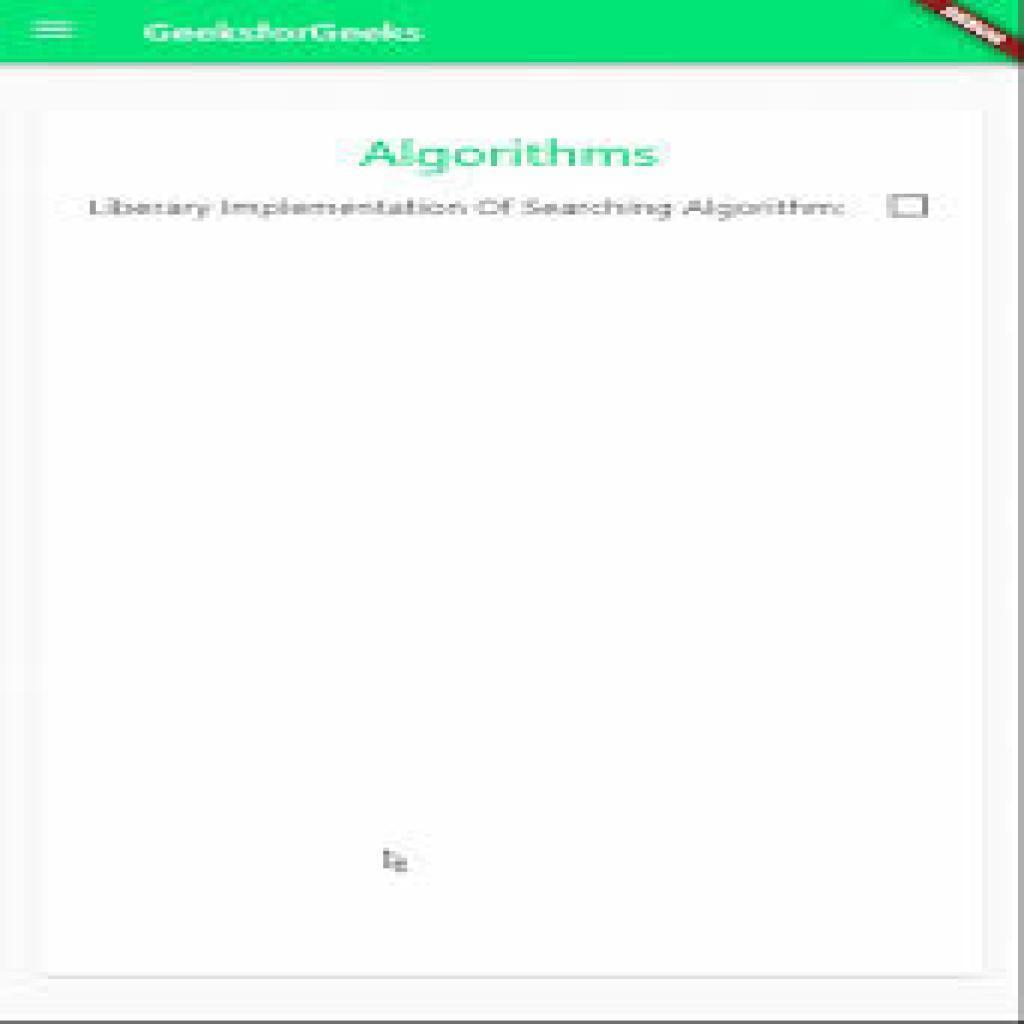checkbox: (891, 193, 929, 218)
